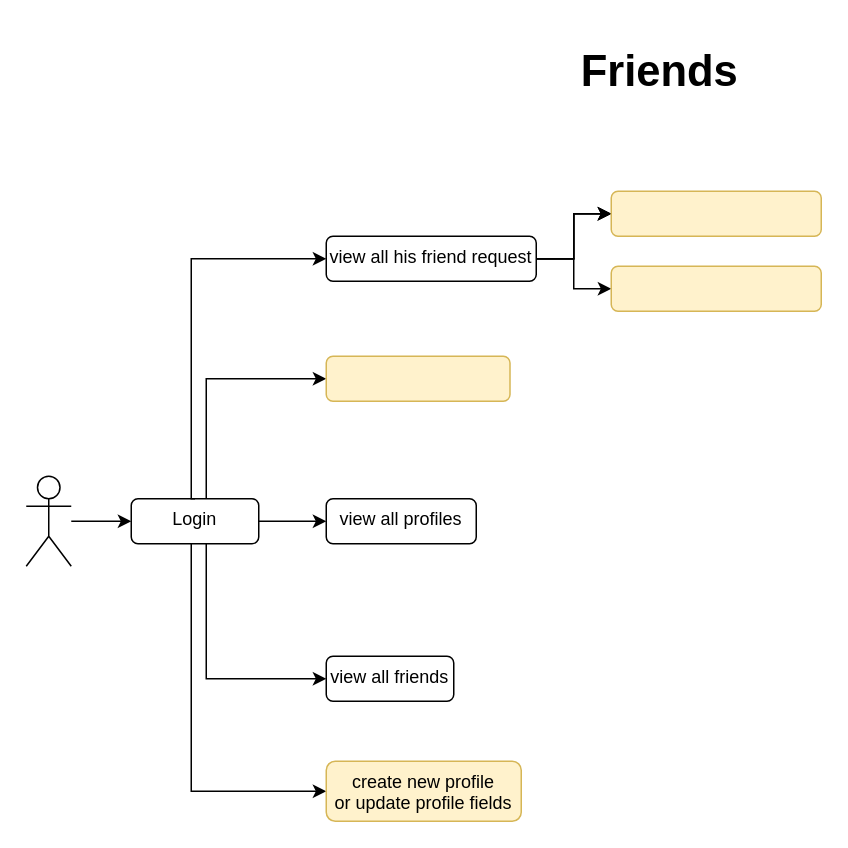
The diagram is 848 pixels wide and 848 high, and some of its shapes have lost their labels. Each missing label, with the centre of its shape:
"accept Friend request" belongs at [715,213].
"reject friend request" belongs at [715,288].
"Send Frind Request" belongs at [417,378].
